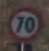limite 70: (7, 7, 42, 42)
